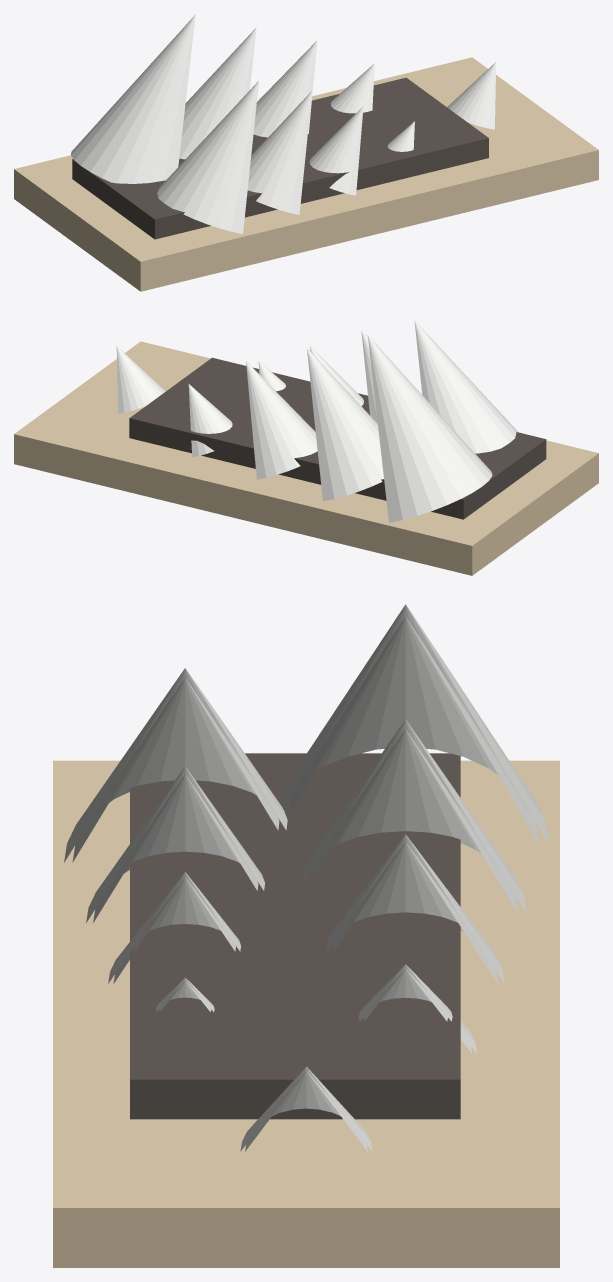
File: LM_SydneyOperaHouse.fbx
3 views of the same model, one above another, from view 1: azimuth 30°, elevation 25°; view 2: azimuth 150°, elevation 25°; view 3: azimuth 270°, elevation 25° (orthographic). The views are drawn at different scales.
Visible parts, largest first — view 1: LM_SydneyOperaHouse; view 2: LM_SydneyOperaHouse; view 3: LM_SydneyOperaHouse.
Boxes of the visible parts, <box> form: LM_SydneyOperaHouse: <box>14,14,598,291</box>; LM_SydneyOperaHouse: <box>14,320,598,575</box>; LM_SydneyOperaHouse: <box>53,604,559,1267</box>.
Size of the model in its own units: 96 by 35.67 by 46.
